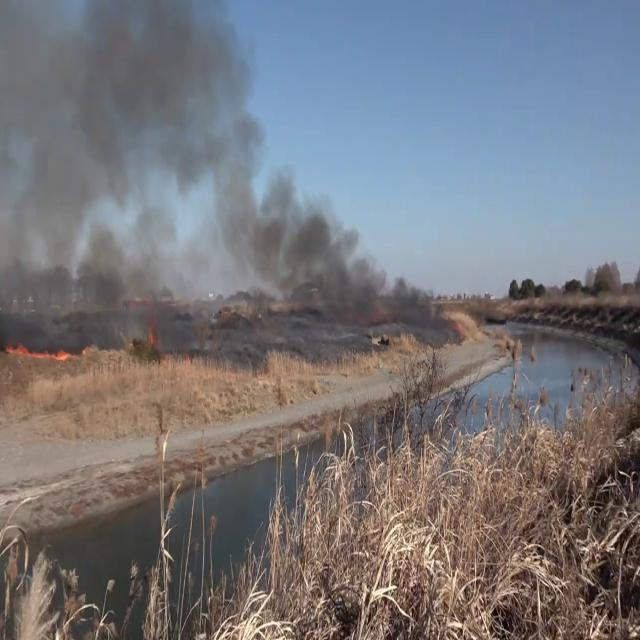Smoke: (0, 0, 254, 275), (240, 160, 444, 334)
